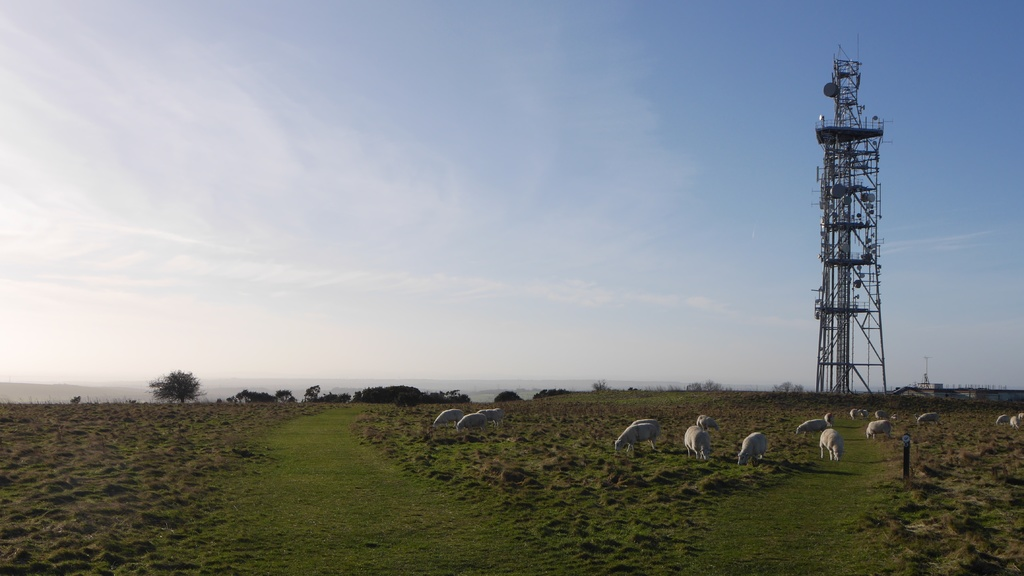Tree: (304, 384, 476, 403), (145, 367, 207, 404), (216, 385, 296, 403), (493, 390, 523, 403), (71, 394, 81, 404)
